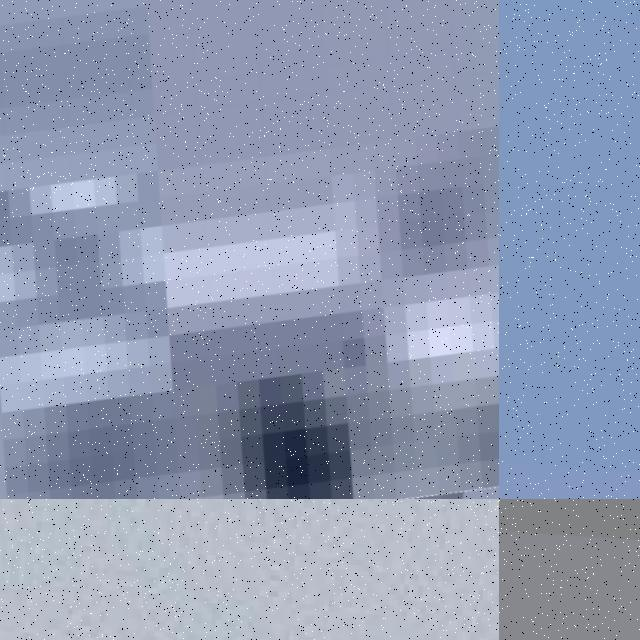drone: (0, 0, 499, 499)
